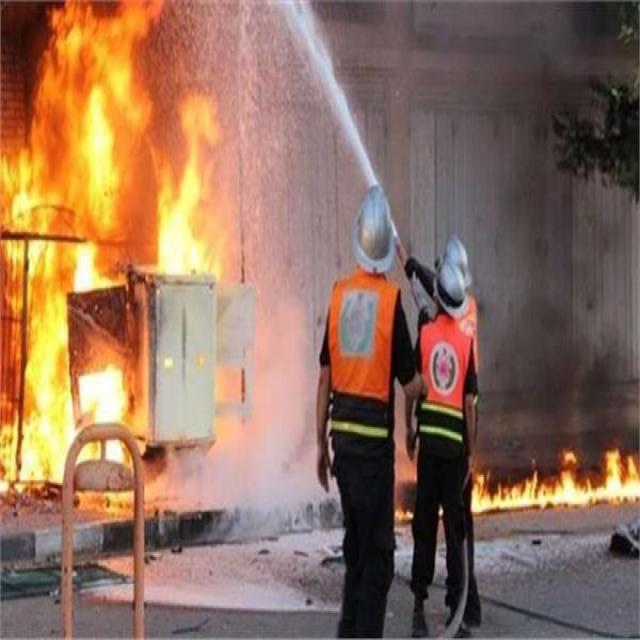Fire: (0, 0, 245, 483), (393, 438, 640, 543)
